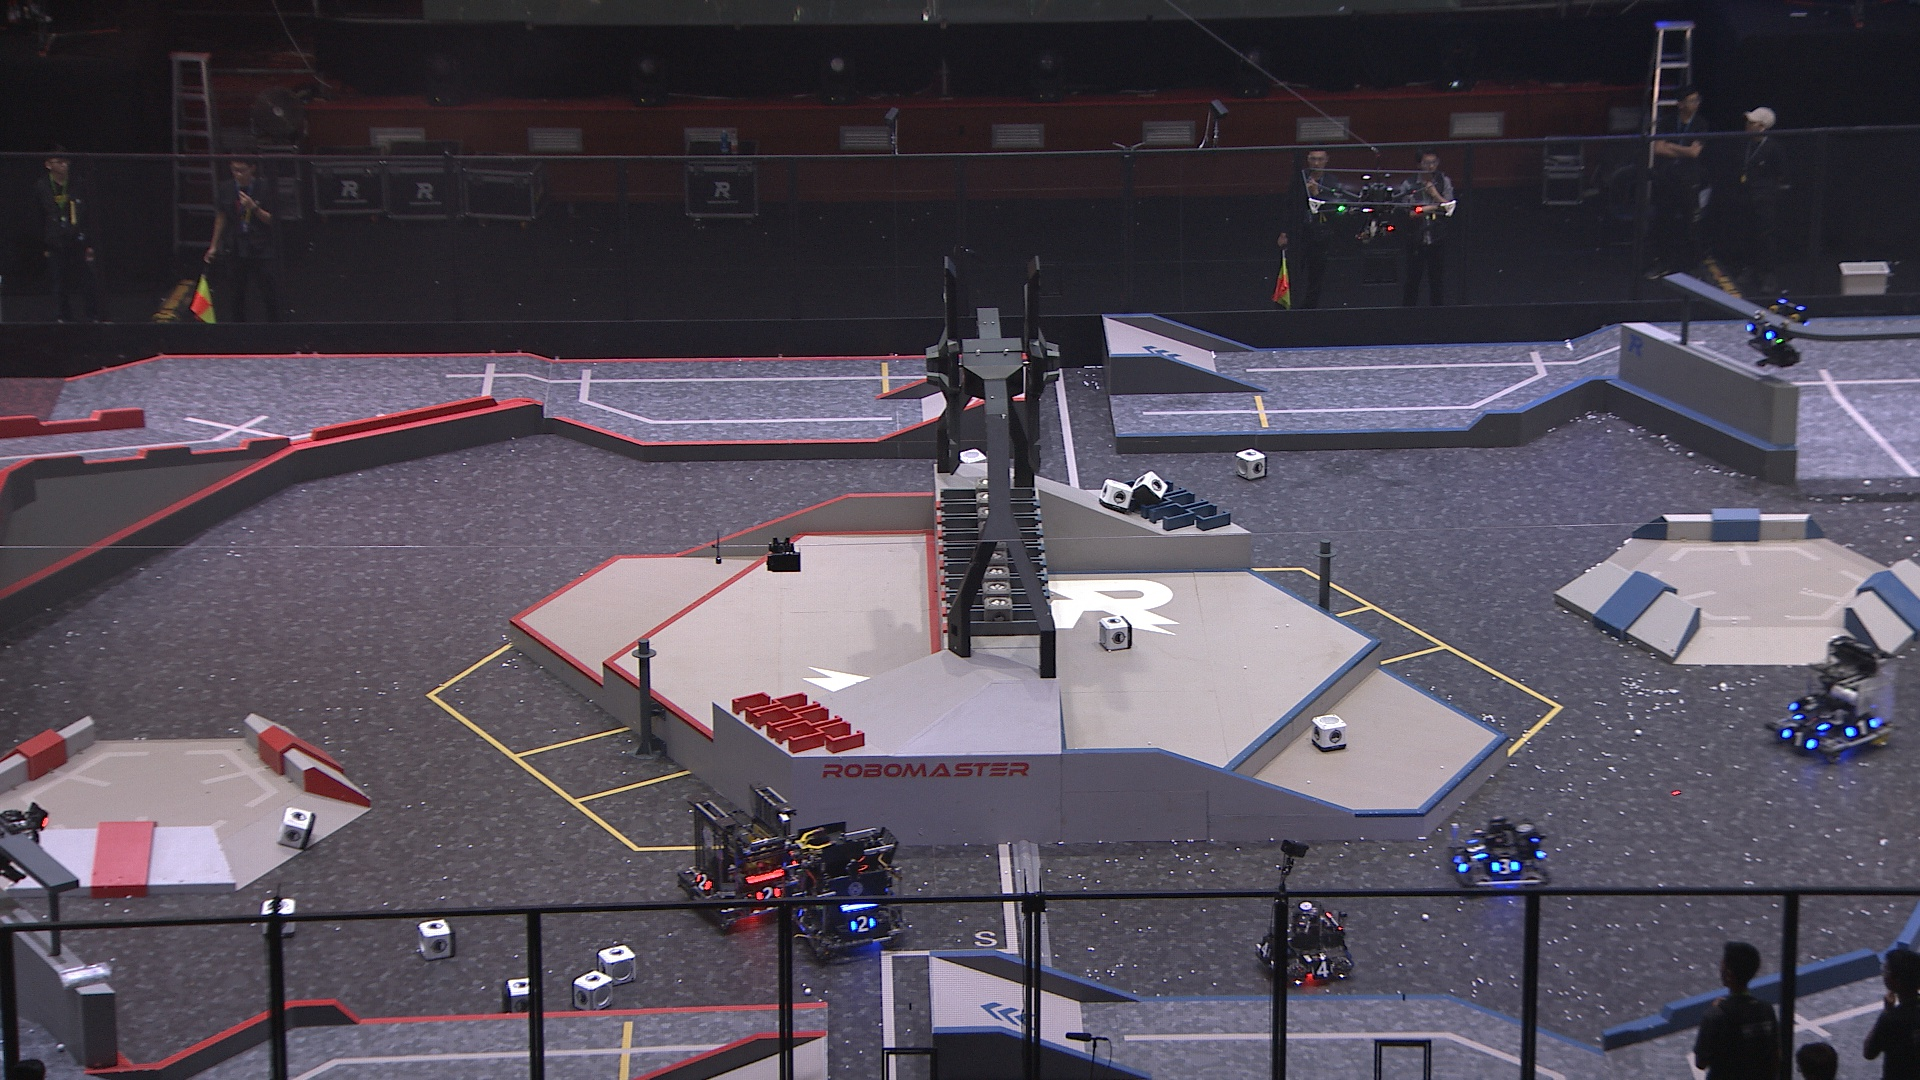armor: (1780, 725, 1820, 754), (1840, 716, 1879, 738), (1792, 709, 1826, 733), (1490, 855, 1522, 878), (1743, 322, 1775, 343), (1309, 959, 1338, 981), (752, 884, 785, 902), (845, 915, 877, 934), (1466, 835, 1489, 860), (794, 906, 812, 927), (694, 872, 712, 891), (1453, 853, 1470, 873), (1257, 939, 1273, 959)
car: (669, 783, 800, 934), (1764, 636, 1907, 764), (795, 818, 920, 963), (1254, 895, 1360, 988), (1447, 814, 1552, 891)
watcher: (1737, 287, 1813, 368)
